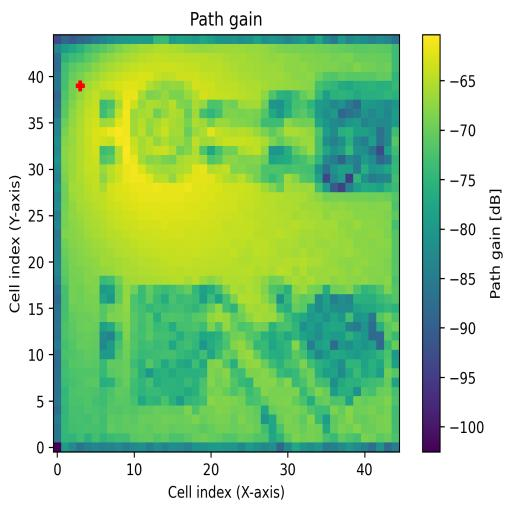Concrete: (315, 80, 392, 193)
Glass: (132, 80, 198, 184)
Metal: (292, 286, 385, 405)
Wood: (130, 286, 208, 407)
